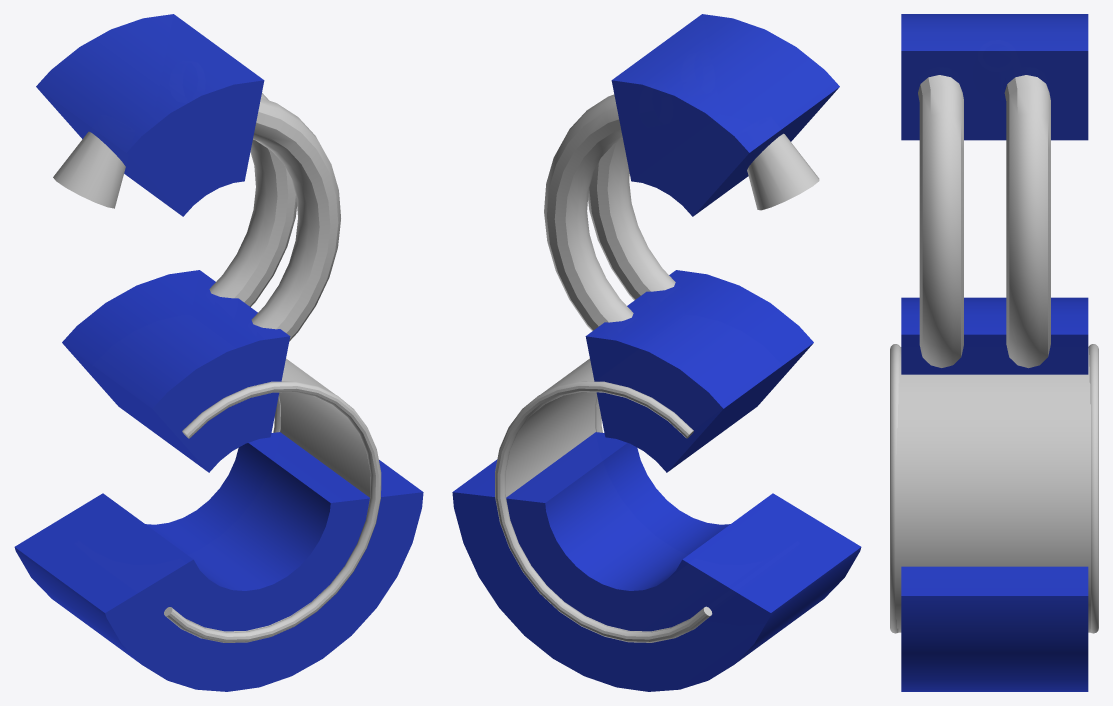
The model's file is taş_tool2.obj.
The picture shows the model from 3 angles, left to right: view 1: azimuth 30°, elevation 25°; view 2: azimuth 150°, elevation 25°; view 3: azimuth 270°, elevation 25°; orthographic projection. The views are drawn at different scales.
Visible parts, largest first — view 1: Circle.019_Material.015, Circle.019_shiny1; view 2: Circle.019_Material.015, Circle.019_shiny1; view 3: Circle.019_shiny1, Circle.019_Material.015.
Part boxes in pixels (<box>): Circle.019_Material.015: <box>14,14,423,691</box>; Circle.019_shiny1: <box>53,93,381,642</box>; Circle.019_Material.015: <box>452,14,861,691</box>; Circle.019_shiny1: <box>495,94,819,642</box>; Circle.019_shiny1: <box>890,75,1098,633</box>; Circle.019_Material.015: <box>901,14,1088,691</box>.
Bounding box in the file's own units: 14.68 × 26.83 × 8.09.
